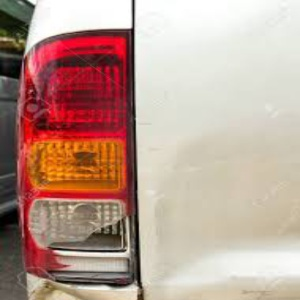tail_lights: (21, 33, 134, 281)
